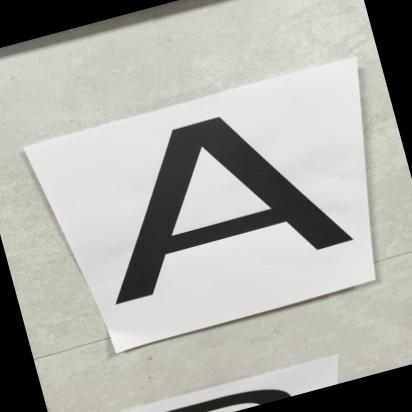seat: (44, 73, 382, 346), (73, 75, 364, 330)
